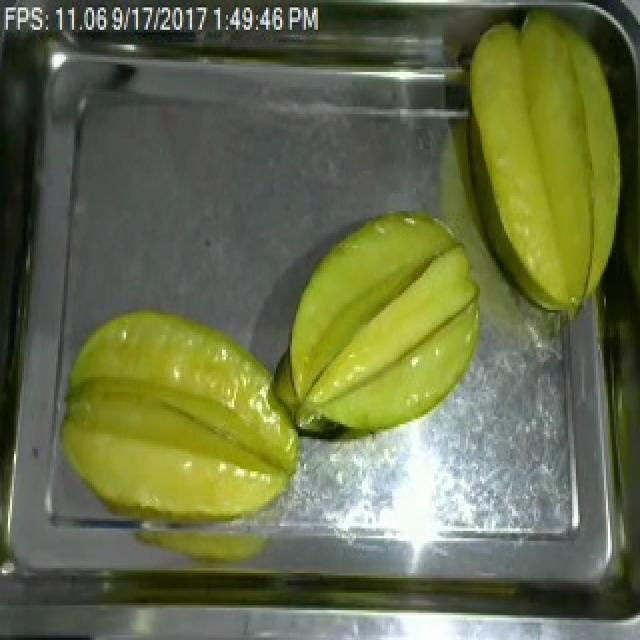fruit: (46, 298, 312, 536), (452, 2, 640, 330), (276, 201, 494, 439)
